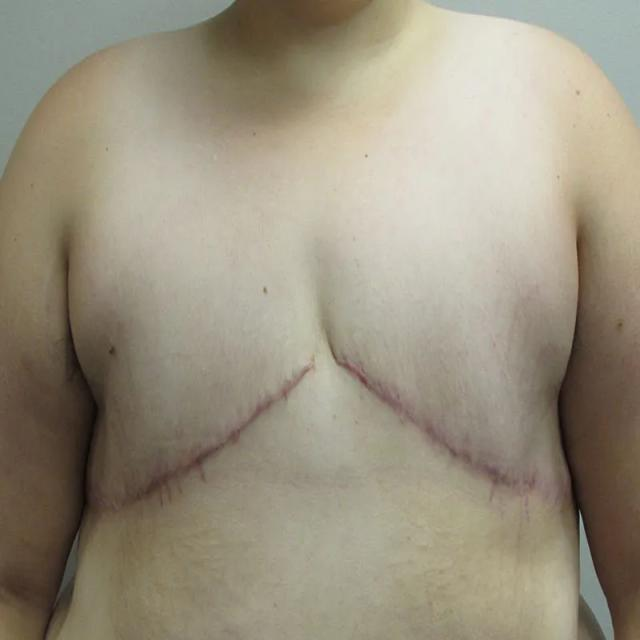Seno herido: (324, 292, 580, 534), (79, 291, 321, 534)
